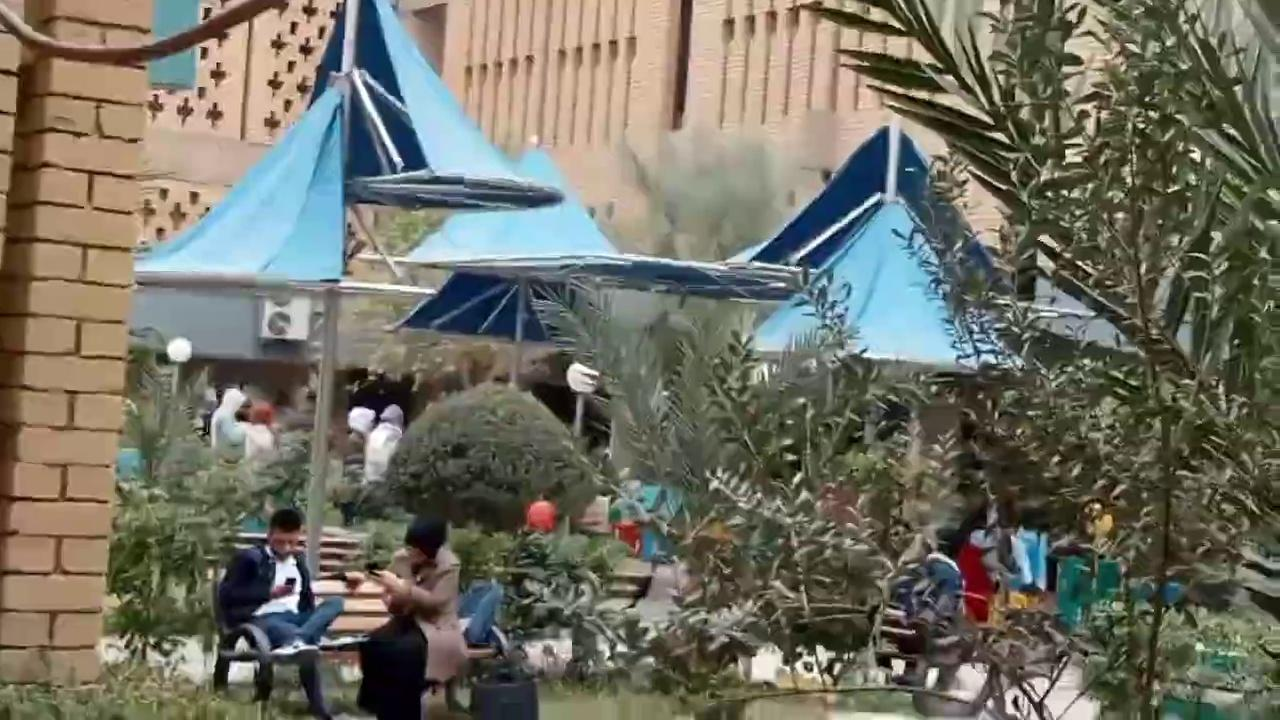person: (217, 508, 344, 719), (355, 514, 466, 719)
tree: (793, 1, 1278, 717), (527, 270, 968, 711), (354, 377, 629, 680), (101, 325, 313, 694), (363, 377, 612, 535)
